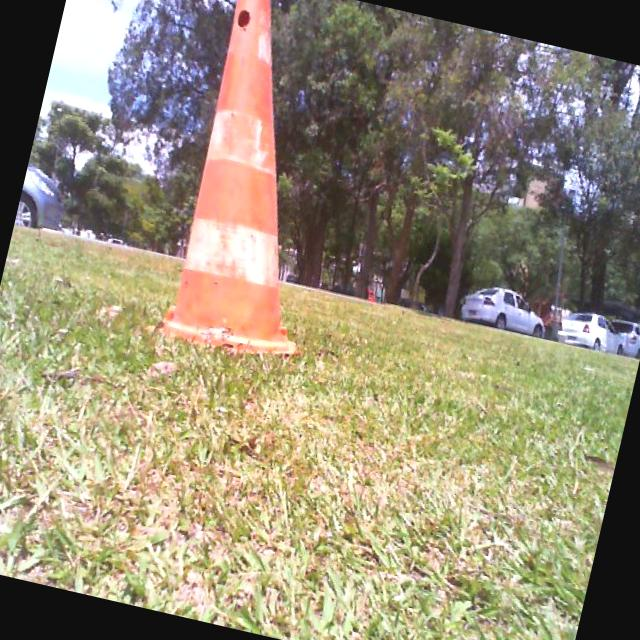Cone: (155, 0, 380, 369)
